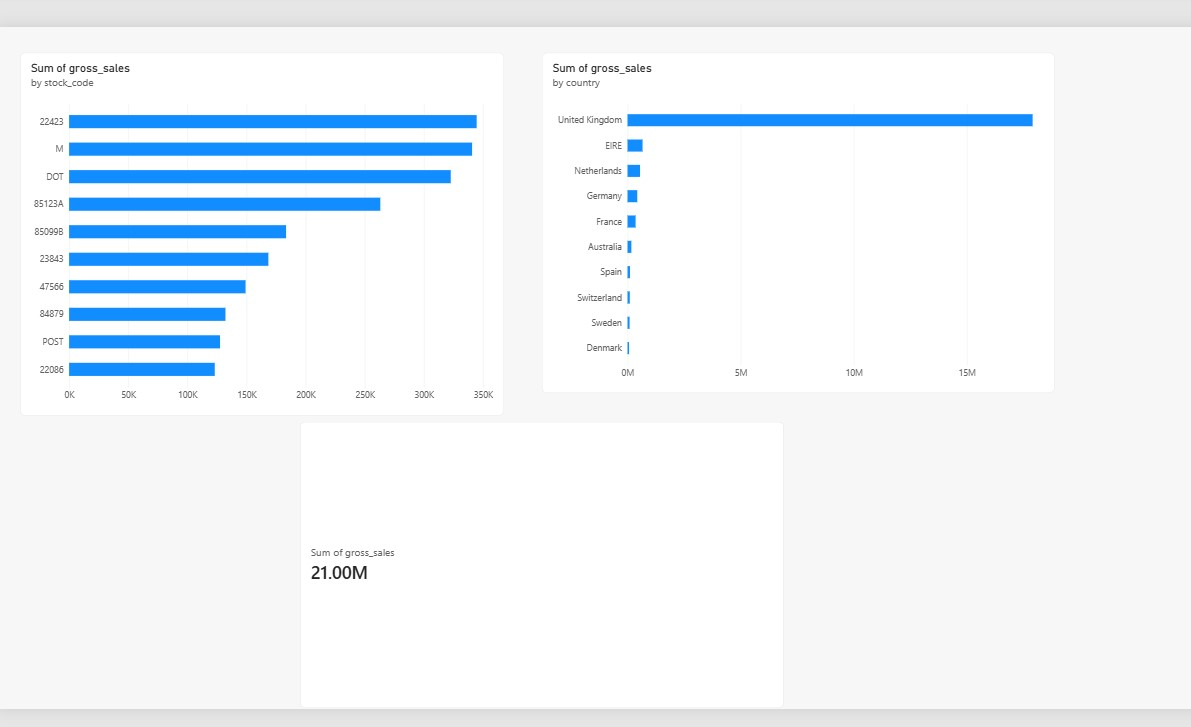

The page's visual inventory and layout, read from the dashboard file:
{"tool":"powerbi","page":{"name":"Product & Geography","canvas":[1920,1080],"ordinal":1},"visuals":[{"type":"clusteredBarChart","fields":{"Category":["top_10_peoducts.stock_code"],"Y":["Sum(top_10_peoducts.gross_sales)"]},"box":[38.4,40.8,767.3,575.4],"z":0},{"type":"clusteredBarChart","fields":{"Category":["country_sales_performance.country"],"Y":["Sum(country_sales_performance.gross_sales)"]},"box":[865.6,40.8,812.8,539.5],"z":1},{"type":"cardVisual","fields":{"Data":["Sum(country_sales_performance.gross_sales)"]},"box":[481.9,625.8,767,454],"z":2}]}

Visuals, with their boxes on the page's 1920x1080 design canvas (x1, y1, x2, y2). These are canvas units, not pixel positions in the 1191x727 screenshot, which may show the page scaled, cropped or inside an application window:
clusteredBarChart - top_10_peoducts.stock_code x Sum(top_10_peoducts.gross_sales): x1=38, y1=41, x2=806, y2=616
clusteredBarChart - country_sales_performance.country x Sum(country_sales_performance.gross_sales): x1=866, y1=41, x2=1678, y2=580
cardVisual - Sum(country_sales_performance.gross_sales): x1=482, y1=626, x2=1249, y2=1080
